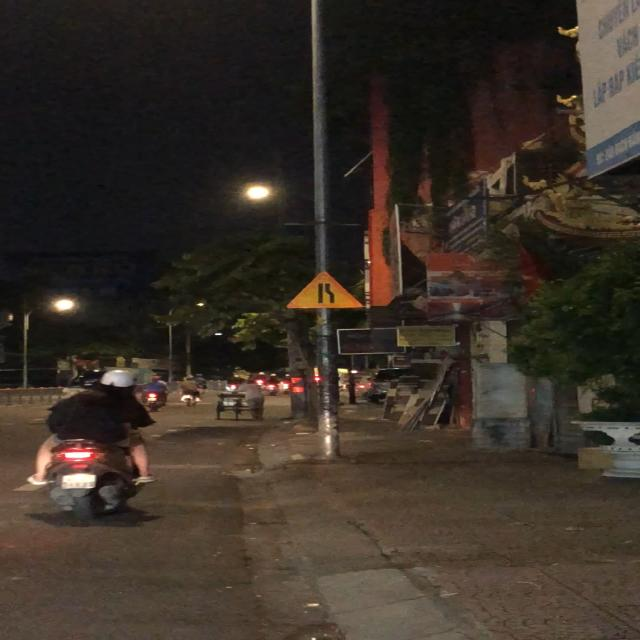Bien bao duong bi thu hep: (285, 270, 366, 310)
